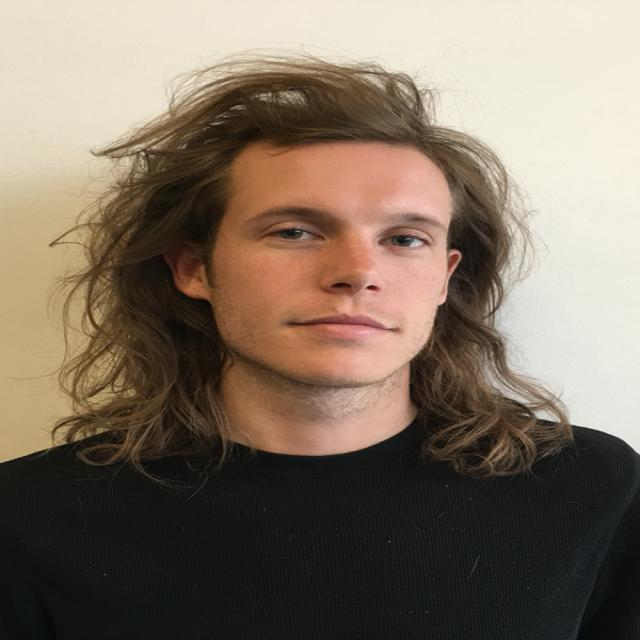mobile_phonerotation: (22, 33, 640, 640)
